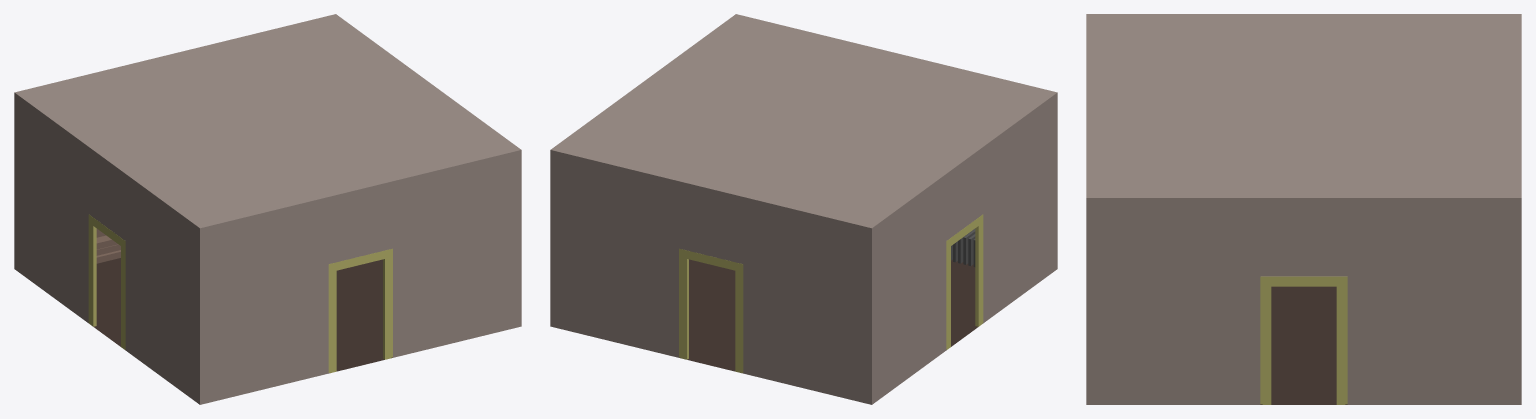
Rendered from Room07_BloodyRoom.fbx.
3 renders of one model, left to right at view 1: azimuth 30°, elevation 25°; view 2: azimuth 150°, elevation 25°; view 3: azimuth 270°, elevation 25°, orthographic. The views are drawn at different scales.
Visible parts, largest first — view 1: Roof, WallSlicedPosZ, WallSlicedPosX, WallSlicedPosZ23, Floor, WallSlicedPosX1, DoorFramePosZ, DoorFramePosX, WallSlicedNegX, pCube269, WallSlicedNegZ; view 2: Roof, WallSlicedNegZ, WallSlicedPosX, WallSlicedNegZ26, Floor, WallSlicedPosX1, DoorFrameNegZ, DoorFramePosX, heater, WallSlicedNegX, WallSlicedPosZ; view 3: Roof, WallSlicedNegX, WallSlicedNegX5, Floor, DoorFrameNegX, WallSlicedPosZ, WallSlicedNegZ, WallSlicedPosX.
Boxes of the visible parts, <box> form: Roof: <box>17,15,518,227</box>; WallSlicedPosZ: <box>199,149,521,364</box>; WallSlicedPosX: <box>14,92,201,364</box>; WallSlicedPosZ23: <box>198,286,521,404</box>; Floor: <box>89,258,392,373</box>; WallSlicedPosX1: <box>14,229,201,404</box>; DoorFramePosZ: <box>328,248,392,372</box>; DoorFramePosX: <box>88,214,125,349</box>; WallSlicedNegX: <box>335,14,521,286</box>; pCube269: <box>96,228,120,263</box>; WallSlicedNegZ: <box>14,14,334,226</box>; Roof: <box>553,15,1054,227</box>; WallSlicedNegZ: <box>550,149,872,364</box>; WallSlicedPosX: <box>870,92,1057,364</box>; WallSlicedNegZ26: <box>550,286,872,404</box>; Floor: <box>679,259,982,373</box>; WallSlicedPosX1: <box>869,230,1056,404</box>; DoorFrameNegZ: <box>679,248,743,372</box>; DoorFramePosX: <box>946,214,983,349</box>; heater: <box>951,228,975,266</box>; WallSlicedNegX: <box>550,14,736,286</box>; WallSlicedPosZ: <box>737,14,1057,228</box>; Roof: <box>1088,14,1519,197</box>; WallSlicedNegX: <box>1086,197,1521,357</box>; WallSlicedNegX5: <box>1086,357,1521,404</box>; Floor: <box>1260,286,1347,404</box>; DoorFrameNegX: <box>1260,276,1347,404</box>; WallSlicedPosZ: <box>1086,14,1087,357</box>; WallSlicedNegZ: <box>1520,14,1521,357</box>; WallSlicedPosX: <box>1086,14,1521,14</box>.
Bounding box in the file's own units: 800 × 420 × 800.
